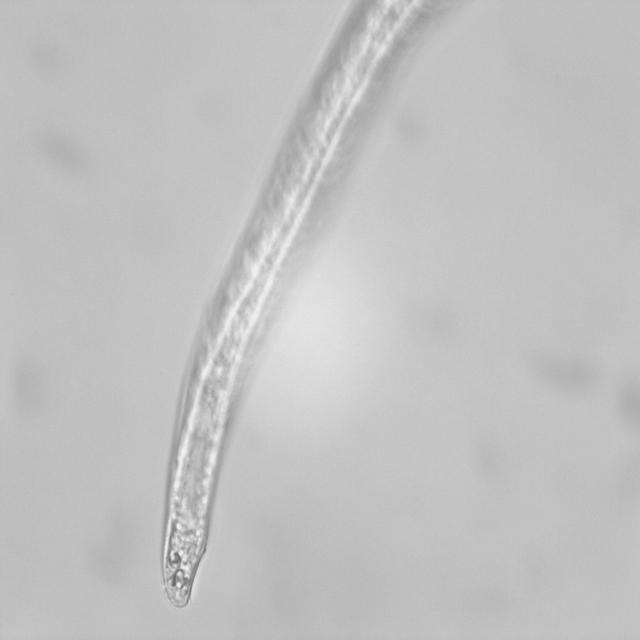Helicotylenchus: (147, 449, 248, 610)
